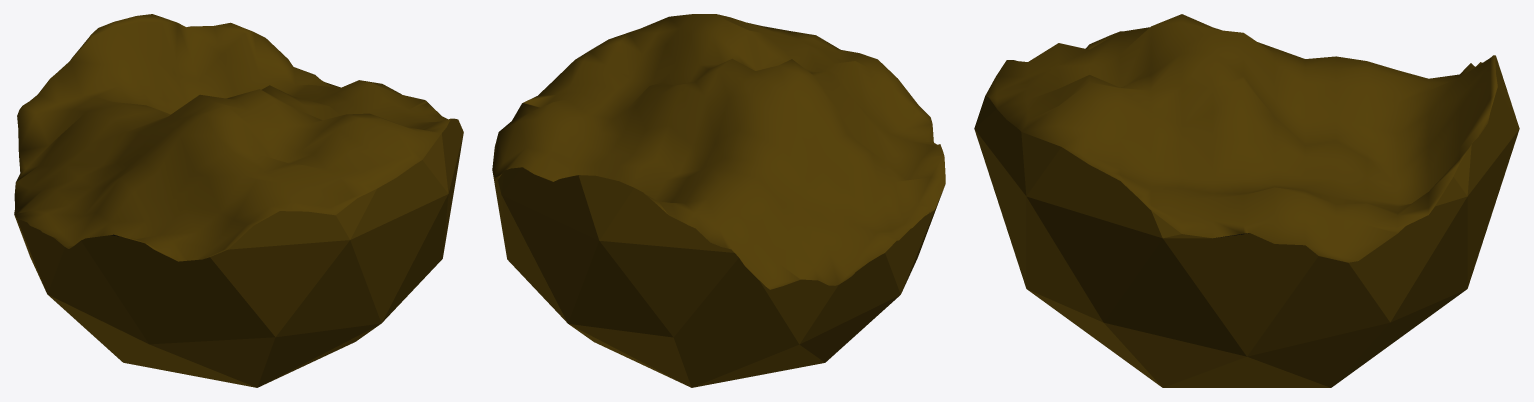
Rendered from Soil.fbx.
3 renders of one model, left to right at view 1: azimuth 30°, elevation 25°; view 2: azimuth 150°, elevation 25°; view 3: azimuth 270°, elevation 25°, orthographic. The views are drawn at different scales.
Visible parts, largest first — view 1: Landscape; view 2: Landscape; view 3: Landscape.
Part boxes in pixels (x1,y1,x2,y2): Landscape: [14, 14, 463, 387]; Landscape: [492, 14, 945, 387]; Landscape: [974, 14, 1519, 387].
Bounding box in the file's own units: 188 × 135 × 199.
